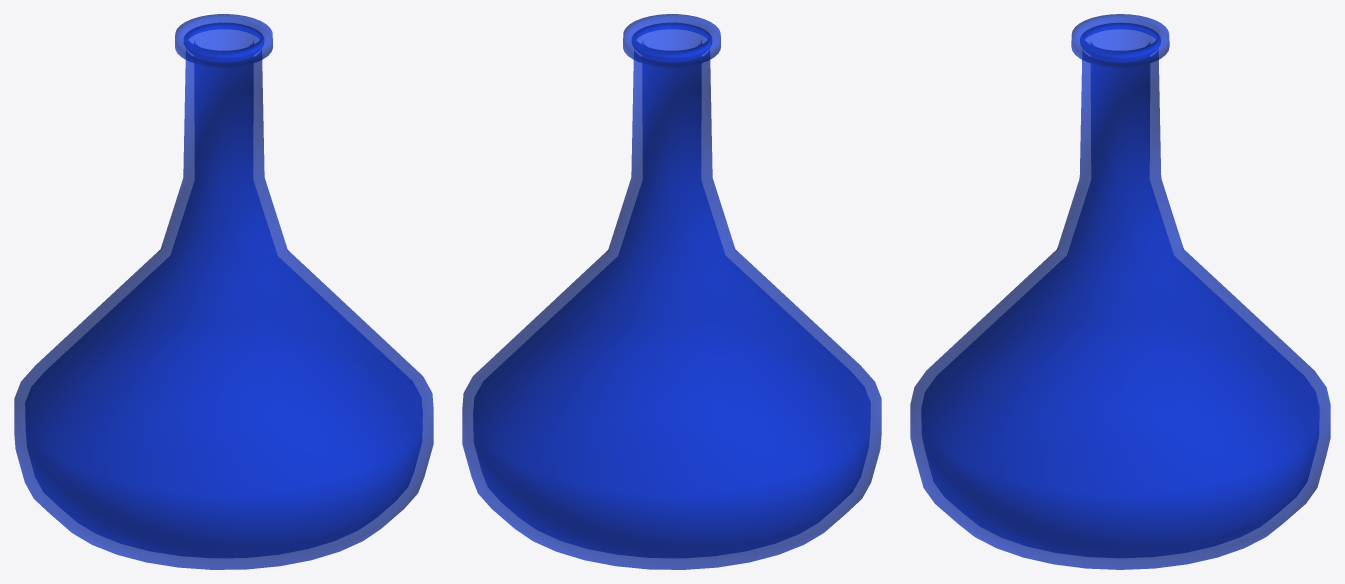
The model's file is Beaker.fbx.
3 renders of one model, left to right at view 1: azimuth 30°, elevation 25°; view 2: azimuth 150°, elevation 25°; view 3: azimuth 270°, elevation 25°, orthographic.
Parts seen in each view (by area): view 1: Potion Flask; view 2: Potion Flask; view 3: Potion Flask.
Part boxes in pixels (x1,y1,x2,y2): Potion Flask: (14, 14, 433, 569); Potion Flask: (462, 14, 881, 569); Potion Flask: (910, 14, 1330, 569).
Size of the model in its own units: 25.29 by 31.21 by 25.29.
